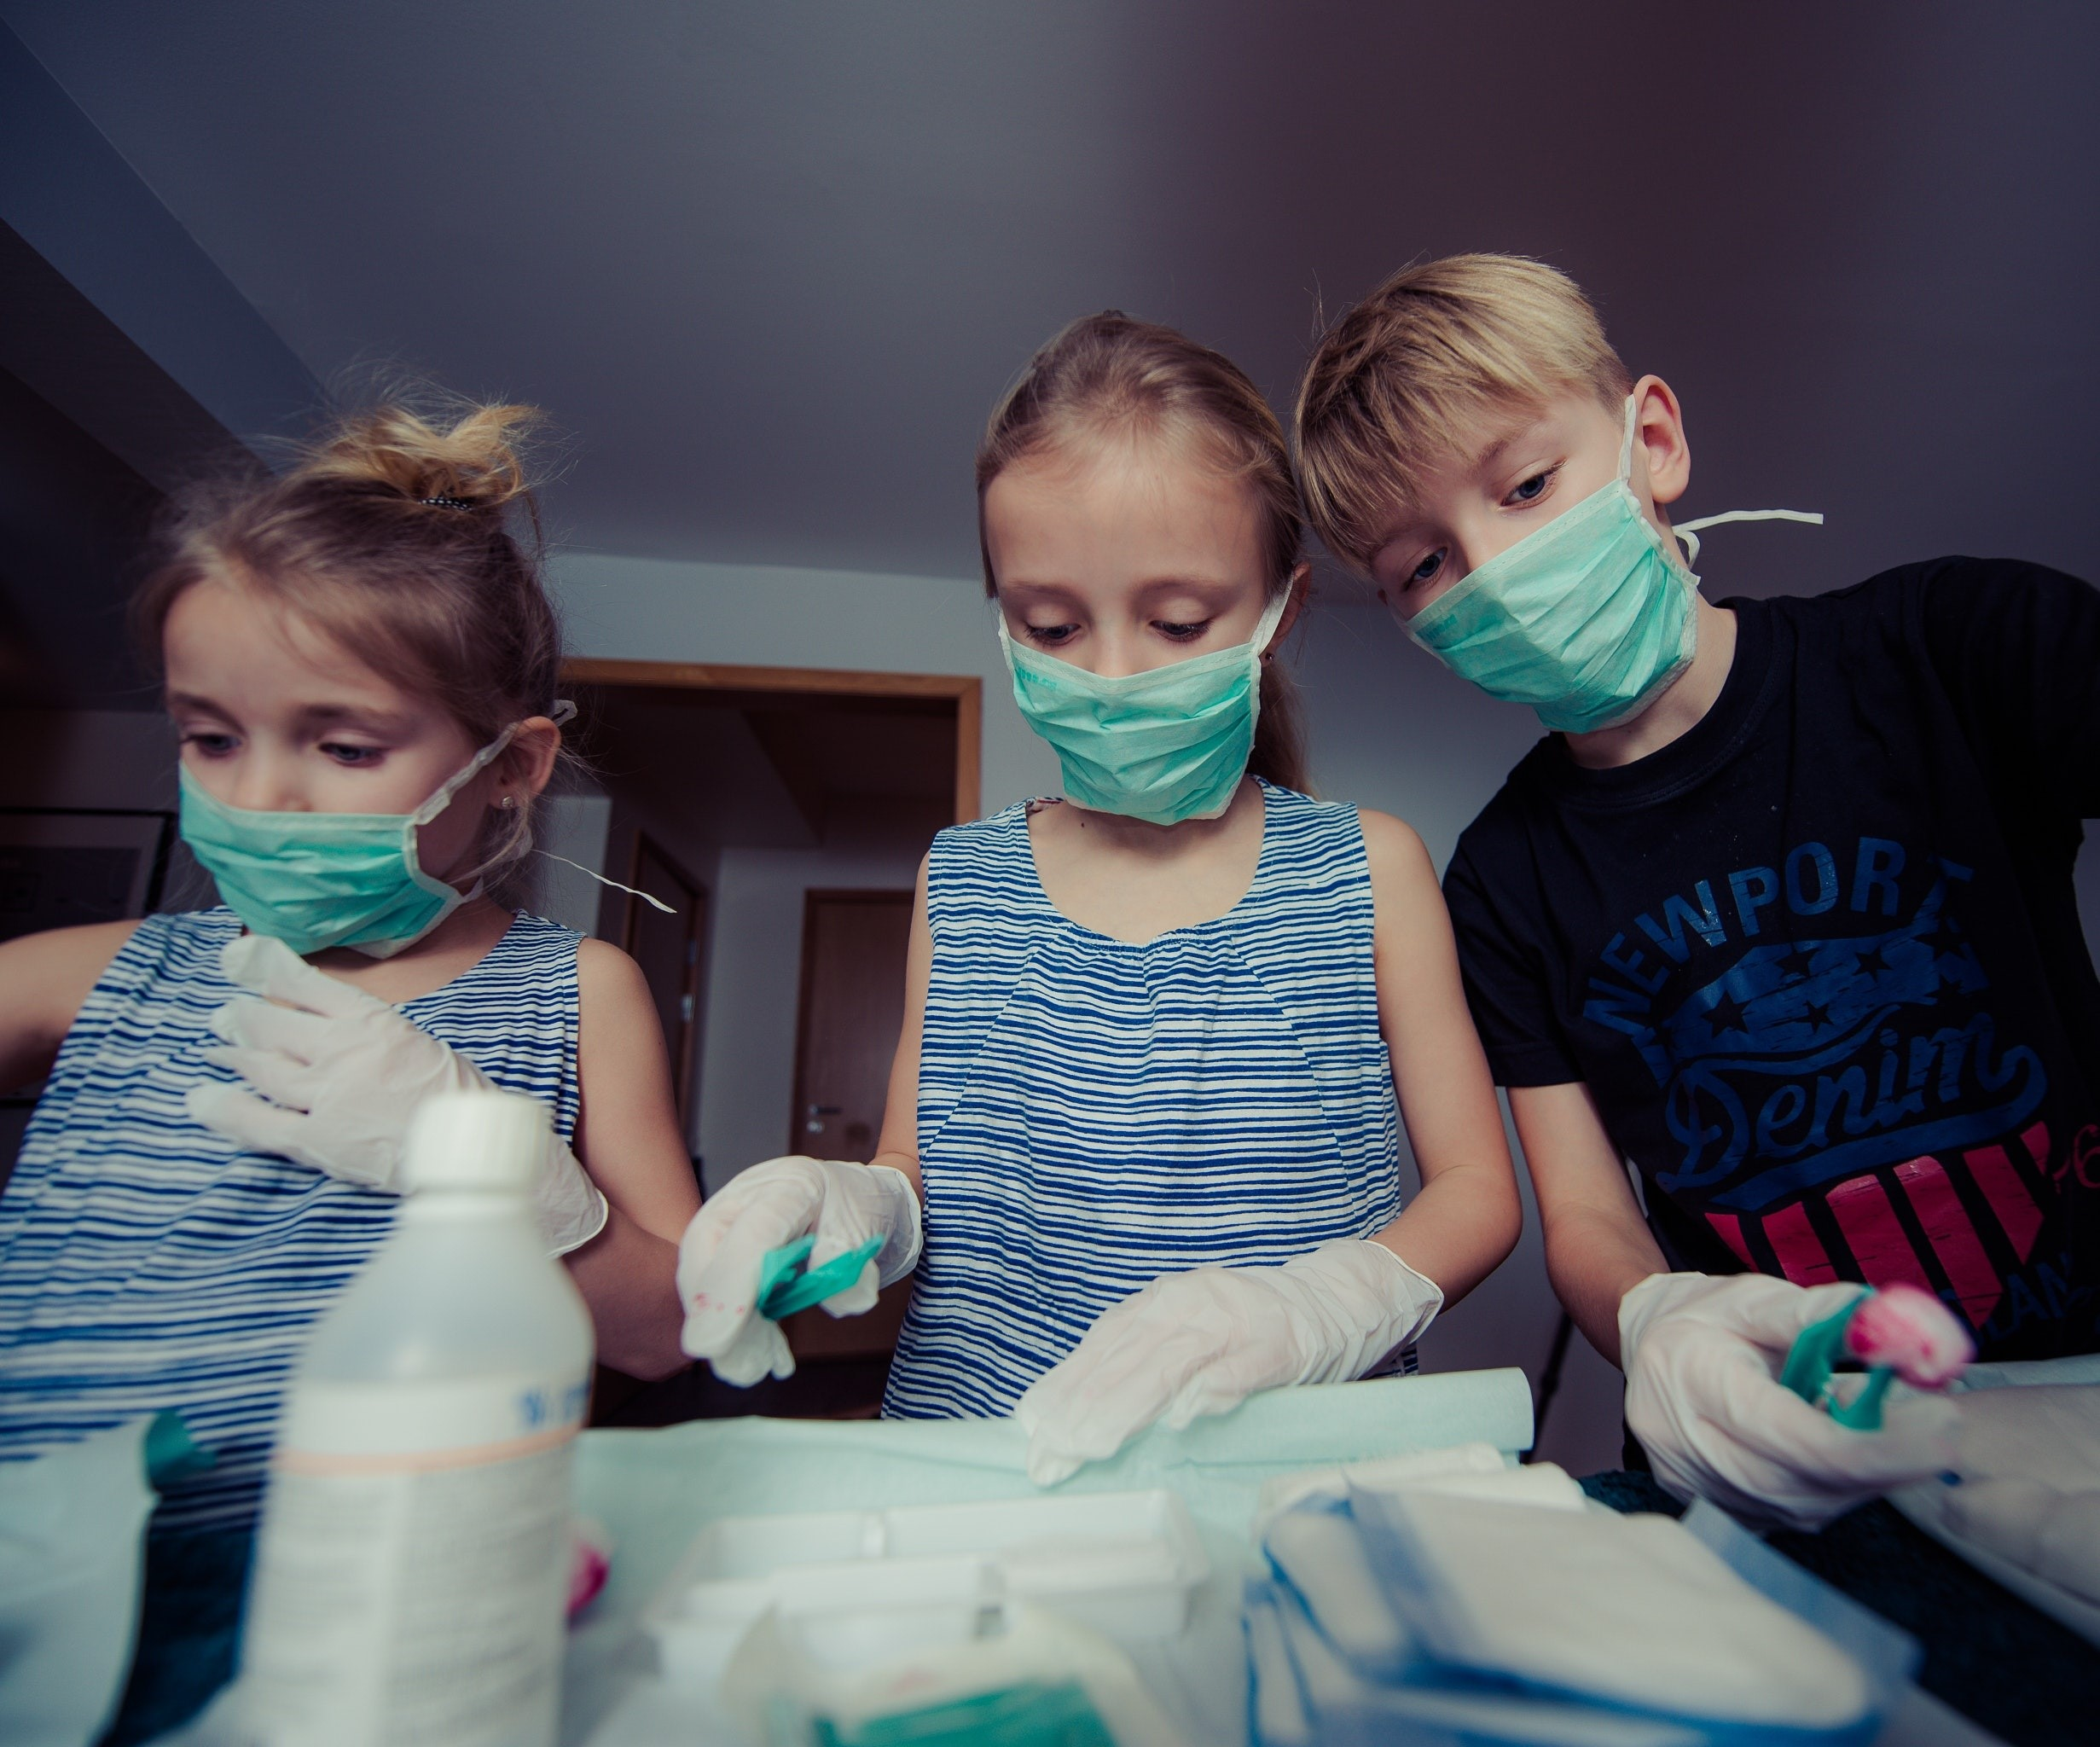face_with_mask: (154, 406, 571, 985), (1307, 250, 1711, 747), (968, 308, 1293, 846)
